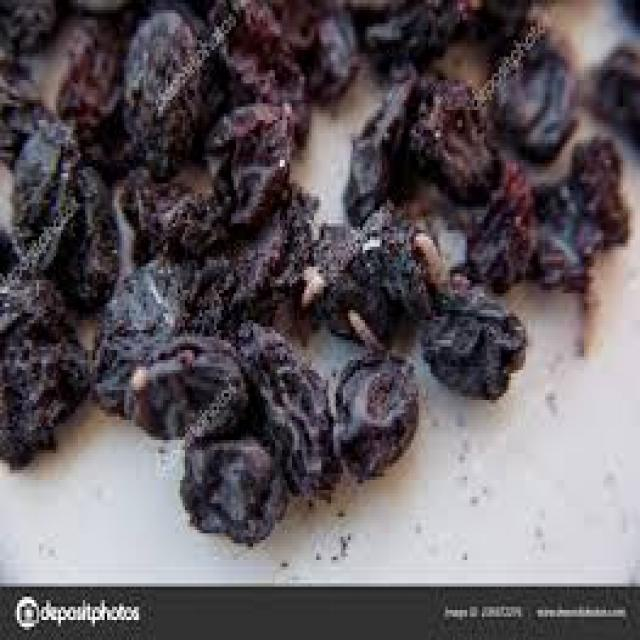organic waste: (228, 314, 340, 504), (406, 224, 526, 394), (92, 250, 224, 400), (0, 274, 88, 464), (331, 300, 421, 480), (204, 180, 314, 320), (204, 0, 308, 143), (124, 330, 253, 440), (117, 7, 199, 173), (324, 194, 408, 344), (178, 433, 290, 540), (409, 67, 499, 200), (202, 96, 294, 226), (487, 30, 579, 157), (7, 120, 73, 270), (341, 70, 409, 210), (117, 167, 224, 253), (59, 160, 120, 310), (465, 160, 535, 283), (267, 0, 355, 93), (346, 0, 480, 60), (54, 13, 122, 124), (535, 177, 601, 280), (299, 217, 363, 323), (576, 43, 638, 147), (570, 130, 626, 243), (0, 50, 41, 156), (0, 210, 46, 297), (78, 110, 122, 177), (479, 0, 547, 43), (0, 0, 54, 47), (608, 0, 638, 37)
